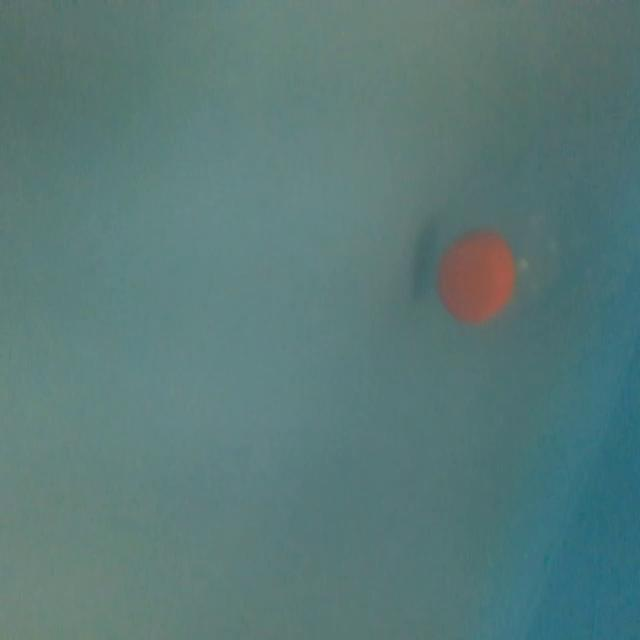plastic bottle: (426, 204, 628, 336)
